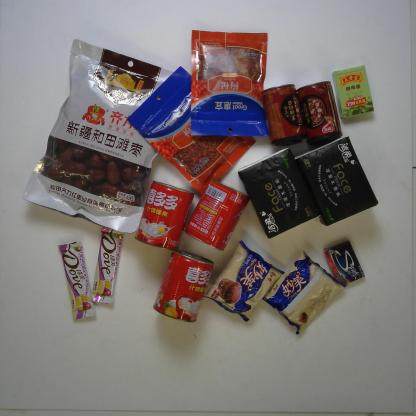Candy: (332, 66, 374, 122)
Canned Food: (184, 178, 250, 252), (152, 250, 214, 323), (135, 179, 196, 253), (296, 80, 342, 147), (260, 84, 304, 148)
Chocolate: (58, 240, 96, 321), (88, 224, 125, 304)
Dessert: (261, 250, 347, 336), (201, 240, 285, 323)
Dried Food: (22, 35, 182, 234)
Dried Fruit: (126, 66, 256, 196), (190, 29, 272, 138)
Gum: (323, 239, 365, 286)
Tissue: (293, 135, 378, 228), (237, 148, 322, 240)
